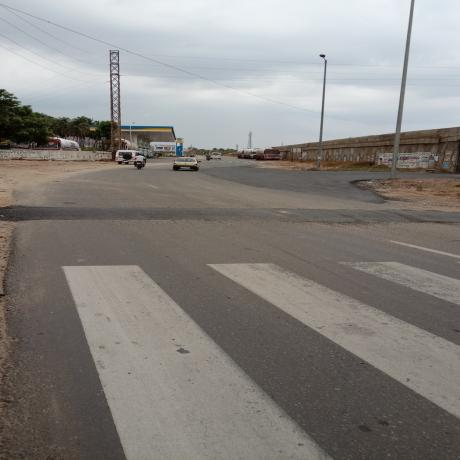Speed Bump: (2, 204, 459, 224)
